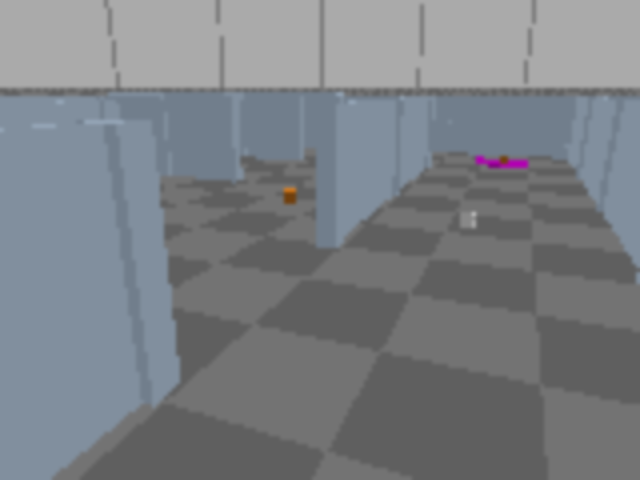goal_zone: (473, 158, 529, 168)
puck: (460, 210, 477, 229)
